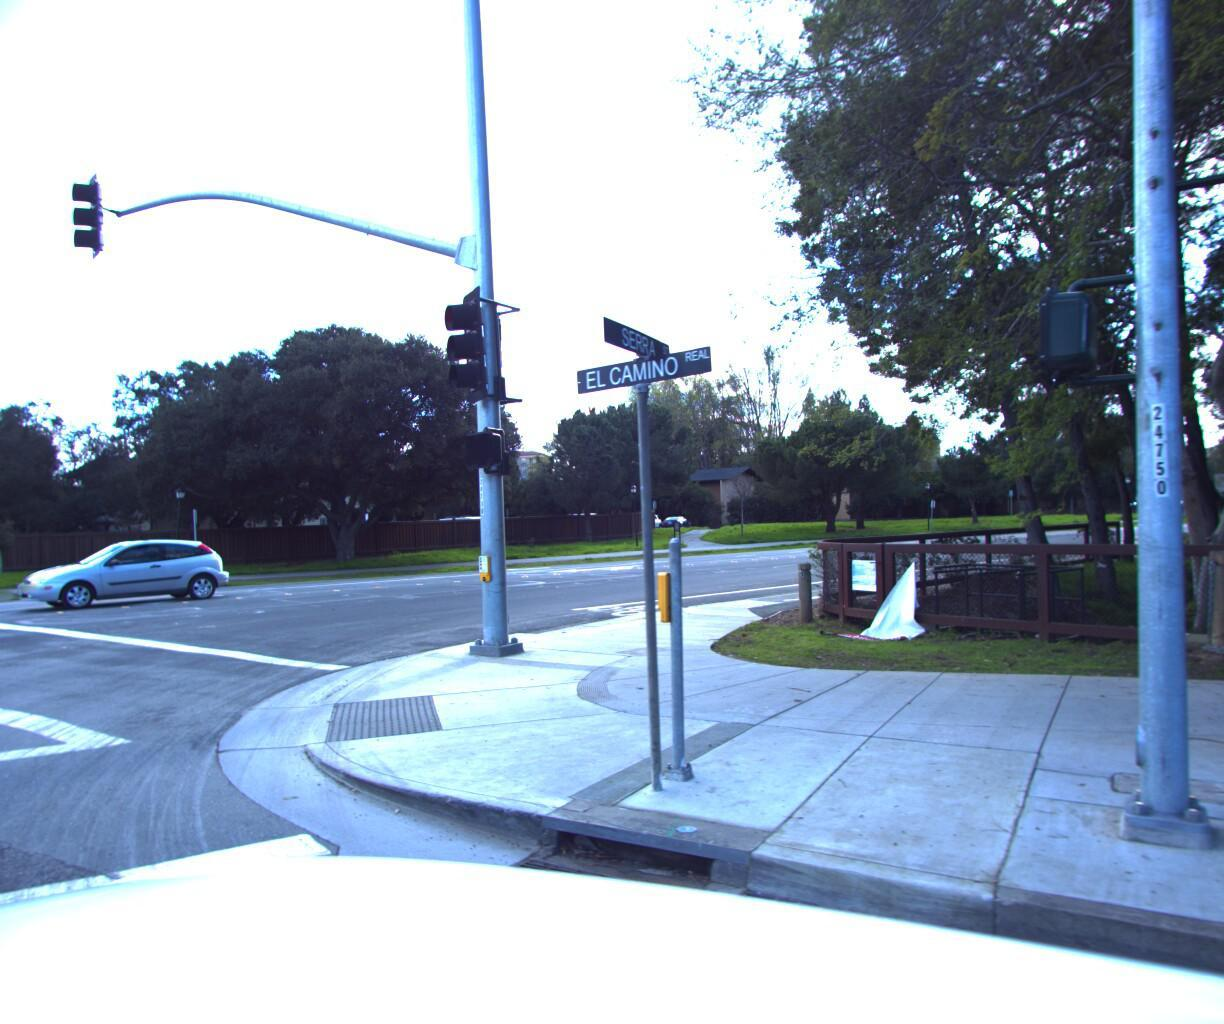car: (6, 533, 236, 611)
